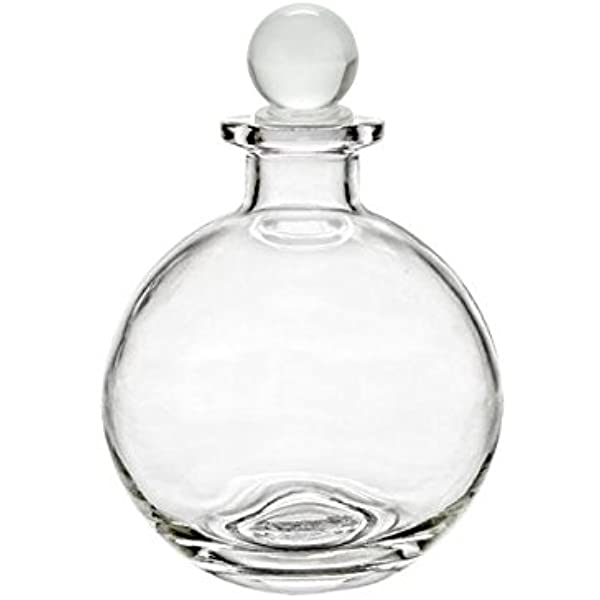glass_bottle: (99, 1, 506, 591)
